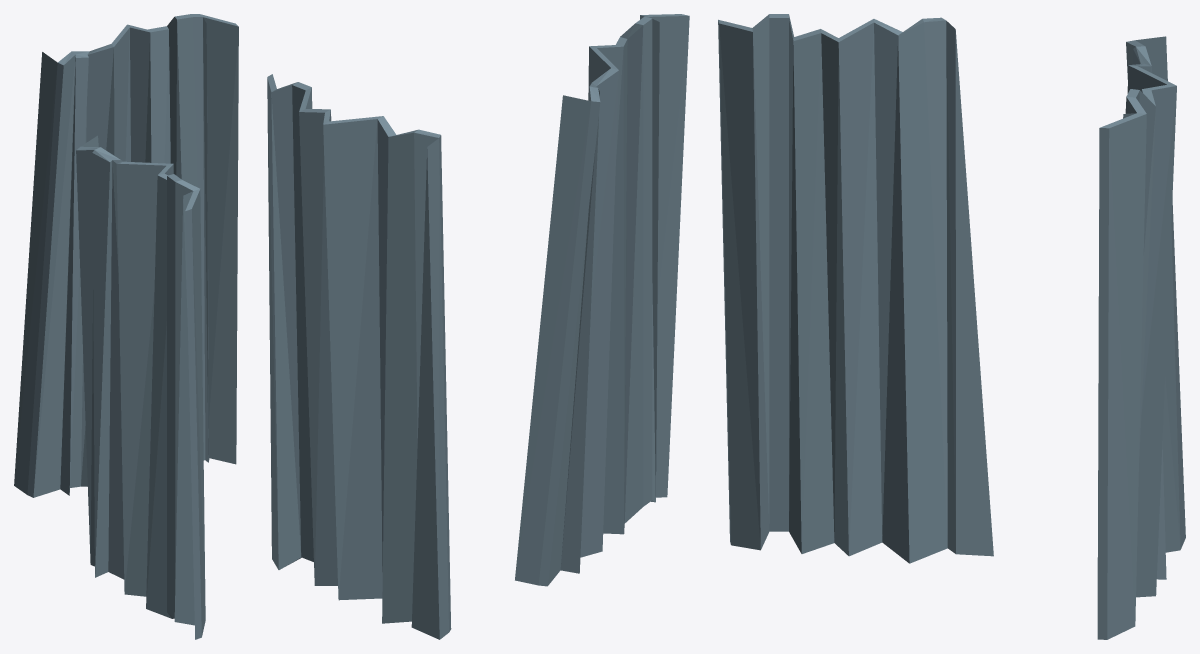
The picture shows the model from 3 angles, left to right: view 1: azimuth 30°, elevation 25°; view 2: azimuth 150°, elevation 25°; view 3: azimuth 270°, elevation 25°; orthographic projection. The views are drawn at different scales.
Size of the model in its own units: 0.5637 by 1.09 by 0.8415.
